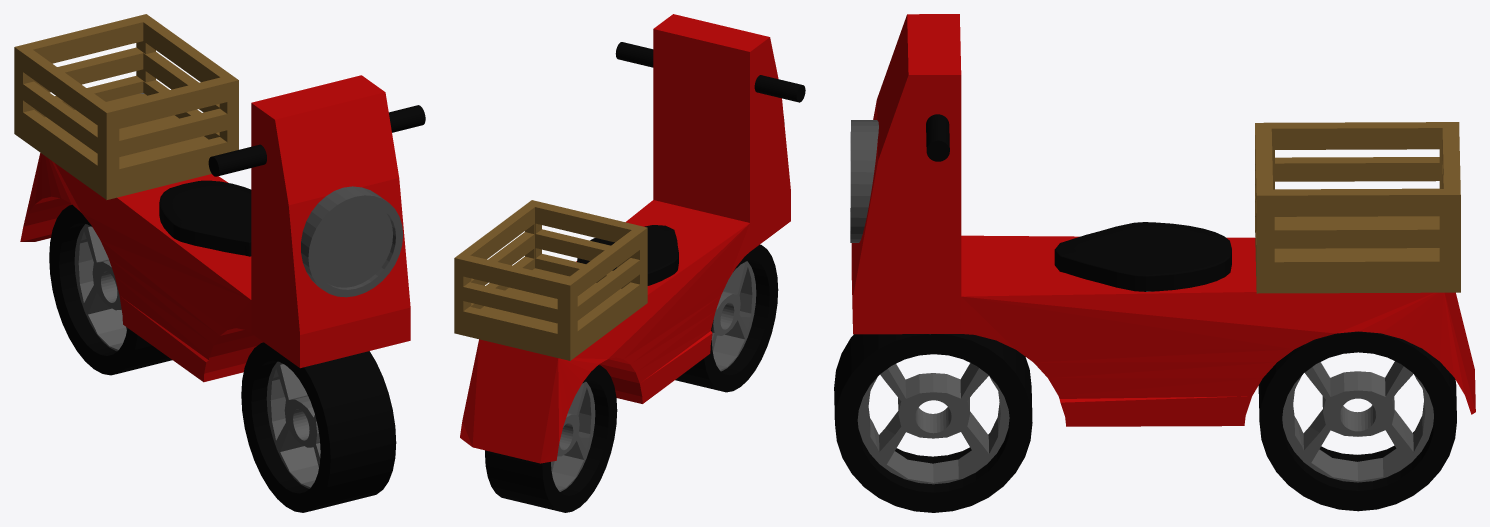
File: player.obj
3 views of the same model, side by side, from view 1: azimuth 30°, elevation 25°; view 2: azimuth 150°, elevation 25°; view 3: azimuth 270°, elevation 25° (orthographic). The views are drawn at different scales.
Visible parts, largest first — view 1: 立方体.001; view 2: 立方体.001; view 3: 立方体.001.
Part boxes in pixels (bbox=[...]): 立方体.001: bbox=[14, 14, 425, 512]; 立方体.001: bbox=[454, 14, 805, 512]; 立方体.001: bbox=[834, 14, 1475, 512].
Bounding box in the file's own units: 1.1 × 2.03 × 2.63.
1 material, 1 textured.
